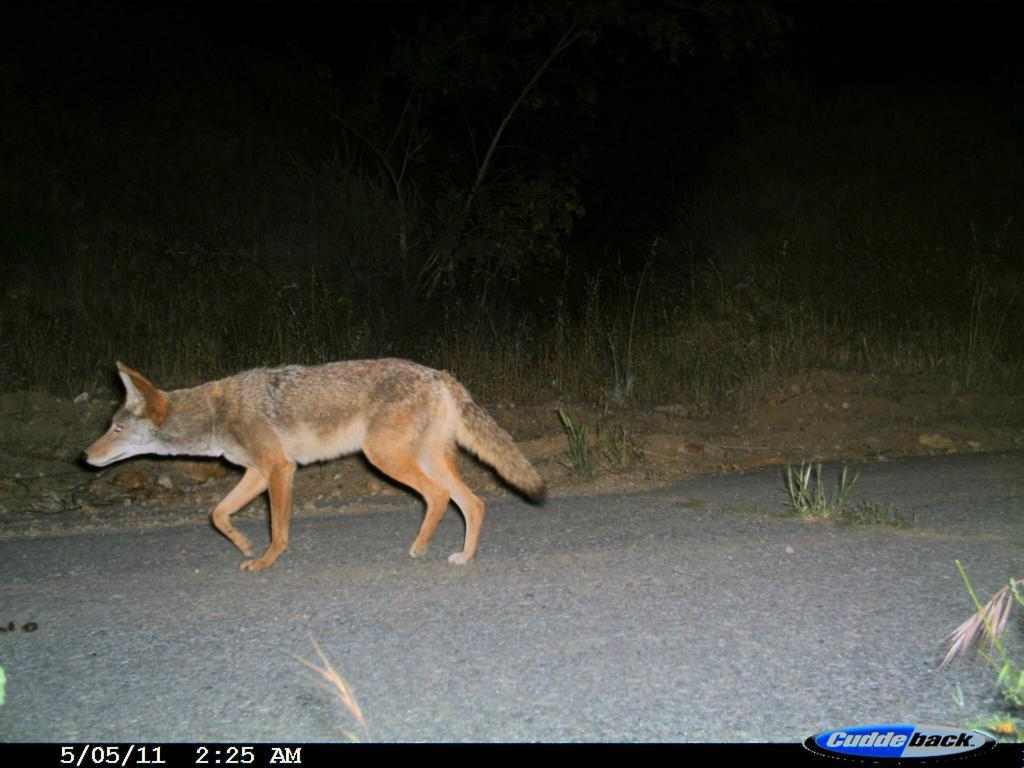coyote: (75, 354, 559, 587)
